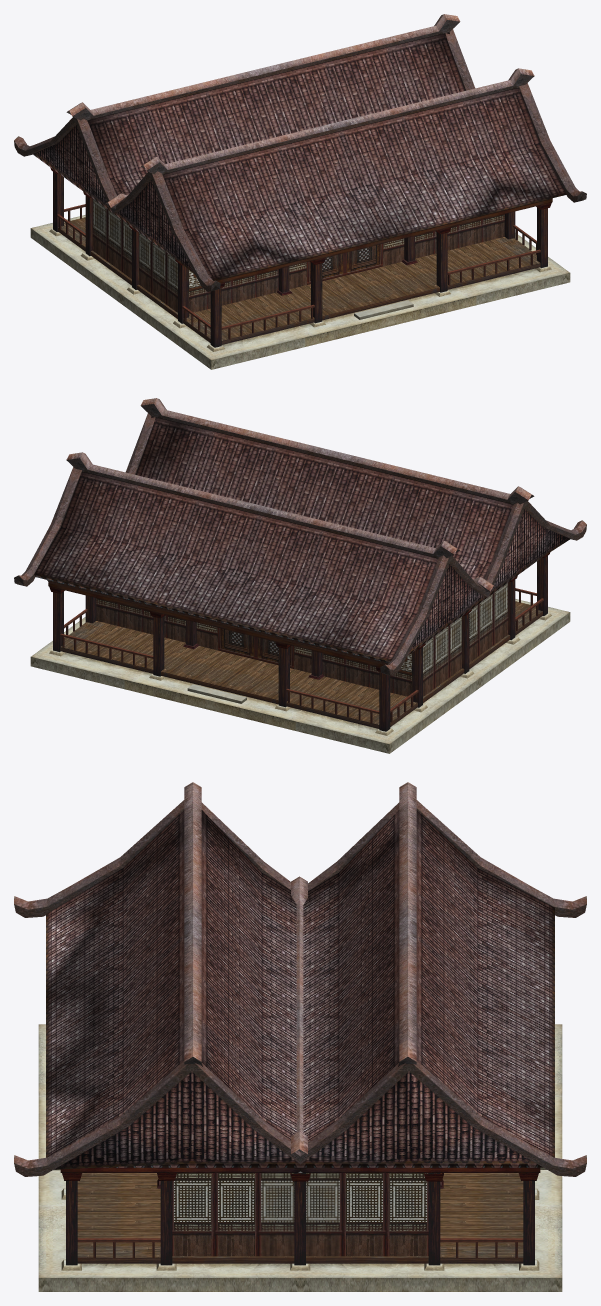
File: ob-033-guesthouse-01.fbx
The picture shows the model from 3 angles, top to bottom: view 1: azimuth 30°, elevation 25°; view 2: azimuth 150°, elevation 25°; view 3: azimuth 270°, elevation 25°; orthographic projection. The views are drawn at different scales.
Visible parts, largest first — view 1: desert-033-guesthouse-01, ob-033-guesthouse-02; view 2: desert-033-guesthouse-01, ob-033-guesthouse-02; view 3: desert-033-guesthouse-01, ob-033-guesthouse-02.
Boxes of the visible parts, <box> form: desert-033-guesthouse-01: <box>14,14,586,319</box>; ob-033-guesthouse-02: <box>30,172,570,369</box>; desert-033-guesthouse-01: <box>14,398,586,703</box>; ob-033-guesthouse-02: <box>30,556,570,753</box>; desert-033-guesthouse-01: <box>14,782,586,1188</box>; ob-033-guesthouse-02: <box>38,1024,562,1291</box>.
Size of the model in its own units: 20.25 by 8.71 by 17.86.
